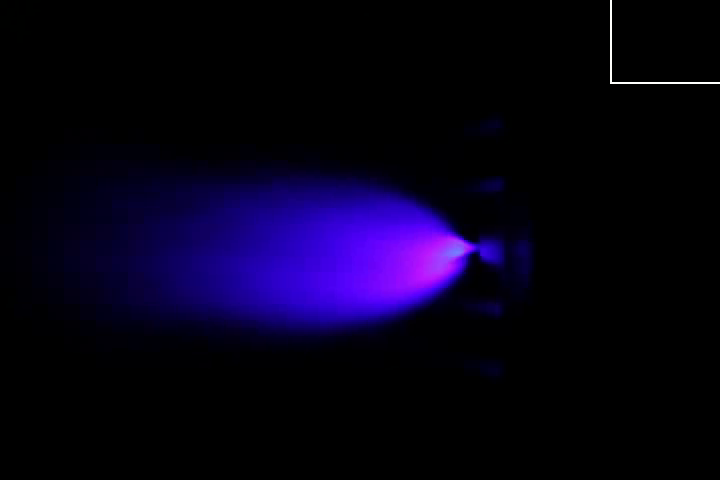burner cap: (475, 228, 509, 275)
stable: (364, 218, 476, 296)
